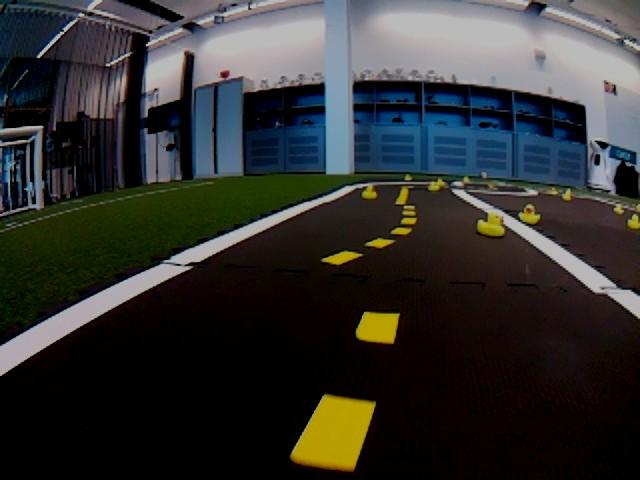Duckies: (477, 213, 505, 237), (517, 206, 541, 224), (361, 185, 378, 199), (628, 213, 639, 229), (428, 183, 440, 192), (562, 189, 571, 201), (613, 205, 624, 213), (435, 180, 446, 187), (549, 188, 558, 195), (488, 184, 496, 189), (404, 175, 411, 180), (464, 178, 471, 183), (637, 203, 640, 211)
